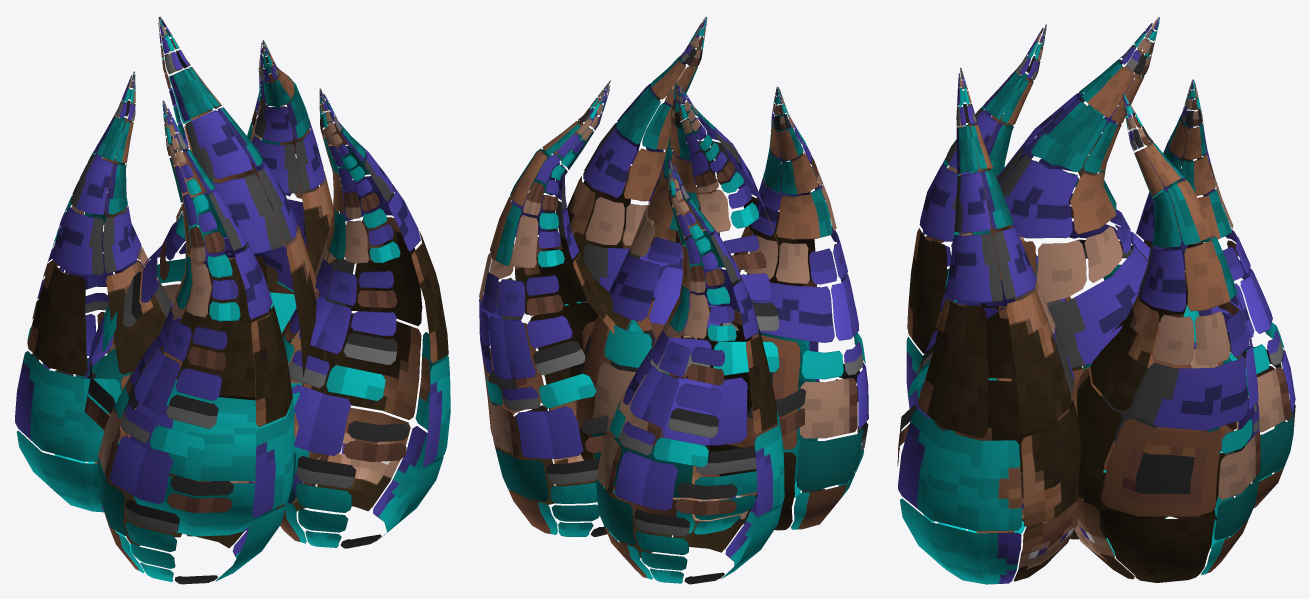
3 renders of one model, left to right at view 1: azimuth 30°, elevation 25°; view 2: azimuth 150°, elevation 25°; view 3: azimuth 270°, elevation 25°, orthographic. The views are drawn at different scales.
Visible parts, largest first — view 1: flame_NurbsPath.015; view 2: flame_NurbsPath.015; view 3: flame_NurbsPath.015.
Part boxes in pixels (x1,y1,x2,y2): flame_NurbsPath.015: (15, 16, 450, 584); flame_NurbsPath.015: (479, 17, 868, 584); flame_NurbsPath.015: (897, 17, 1295, 584).
Bounding box in the file's own units: 0.7675 × 1.14 × 0.8019.
